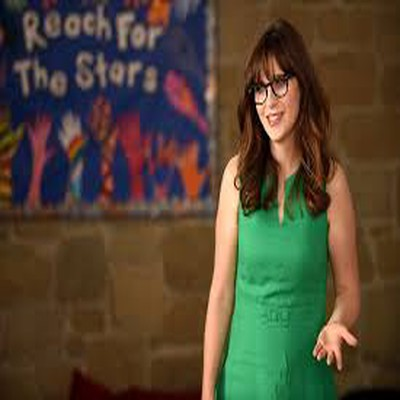eywear: (240, 80, 314, 111)
